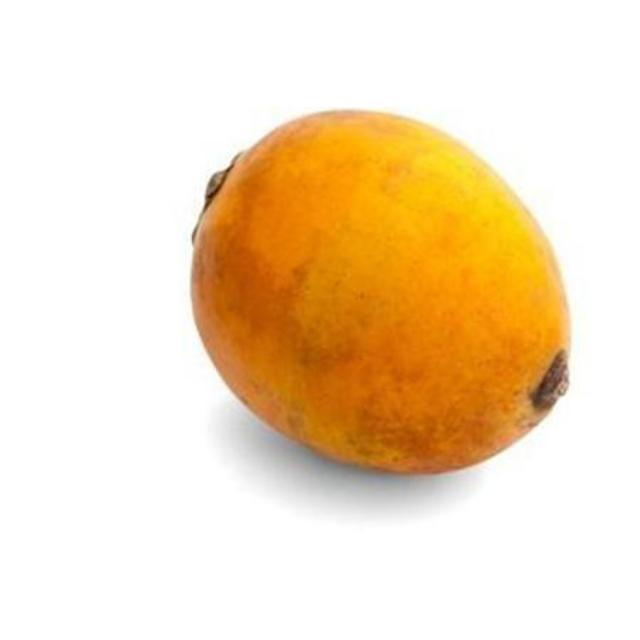good: (191, 110, 572, 477)
